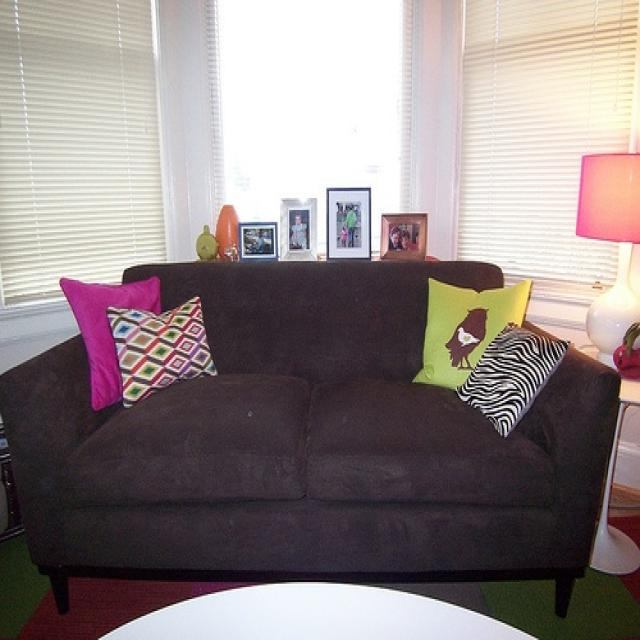sofa: (0, 259, 622, 613)
